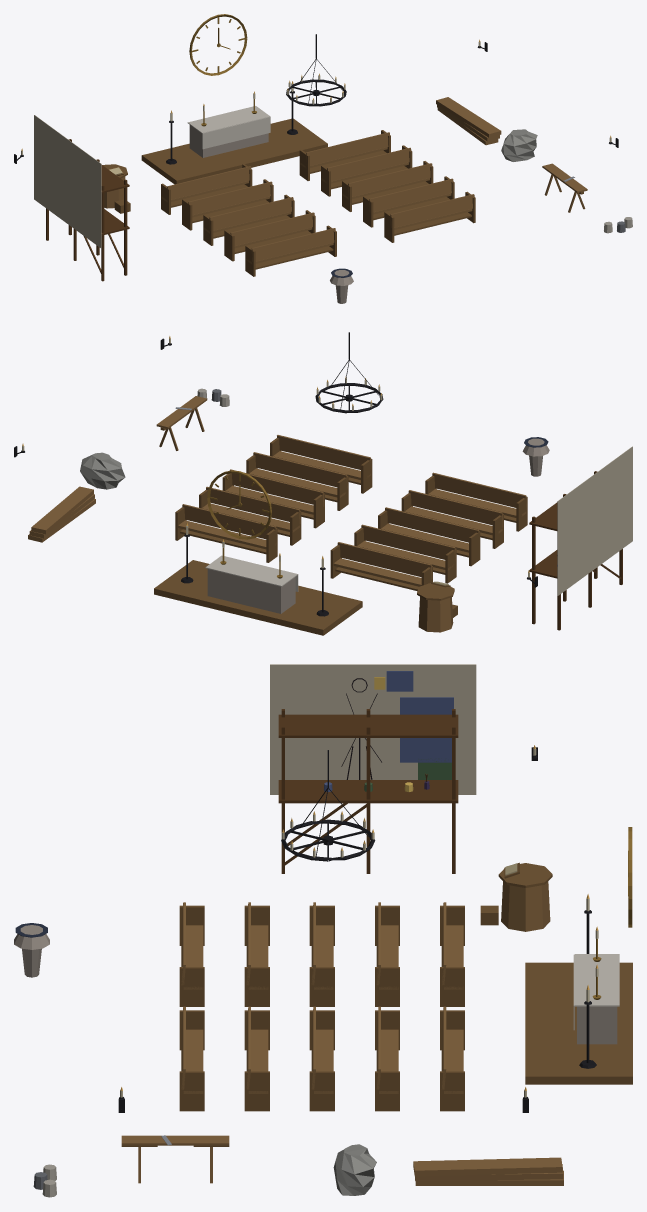
File: new-chapel.glb
3 renders of one model, top to bottom at view 1: azimuth 30°, elevation 25°; view 2: azimuth 150°, elevation 25°; view 3: azimuth 270°, elevation 25°, orthographic. The views are drawn at different scales.
Parts seen in each view (by area): view 1: new-chapel; view 2: new-chapel; view 3: new-chapel.
Boxes of the visible parts, <box> form: new-chapel: <box>14,14,632,303</box>; new-chapel: <box>14,332,632,635</box>; new-chapel: <box>14,664,632,1197</box>.
Size of the model in its own units: 18.59 by 6.83 by 13.79.
